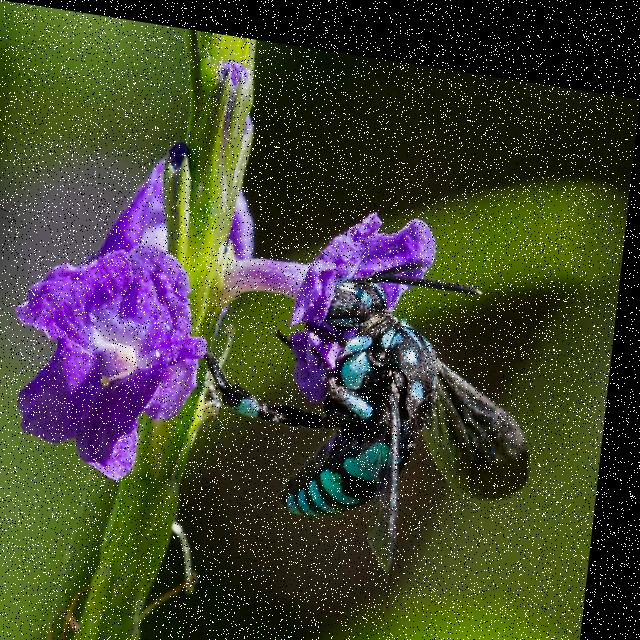Thyreus: (182, 211, 564, 601)
